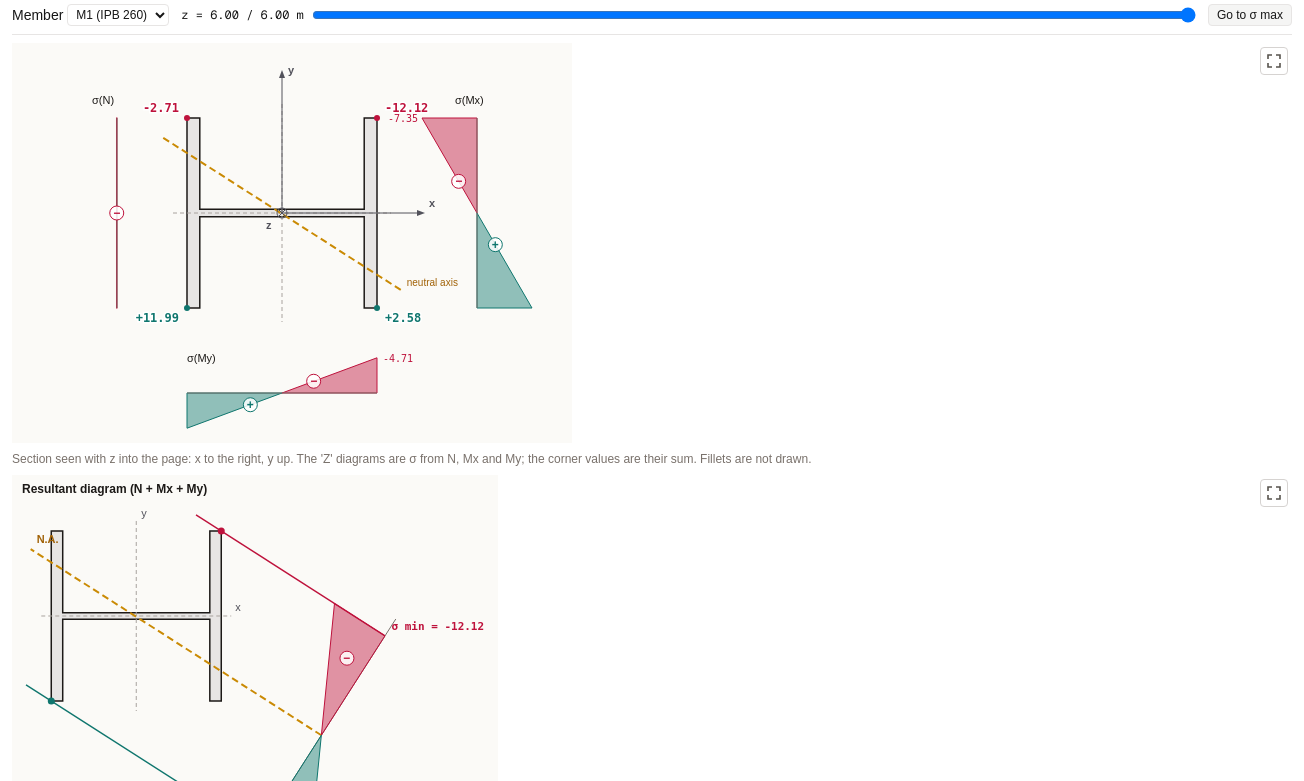
Test: SectionCut › moving the slider changes the cut and the forces; the top of the column has no My
The width and height of the screenshot is (1304, 781).
expect the text with test id "cut-x" shows "z = 6.00": met, box [181, 7, 304, 23]
Set the slider named "cut position" to "0" at (320, 15), box [312, 7, 1196, 23]
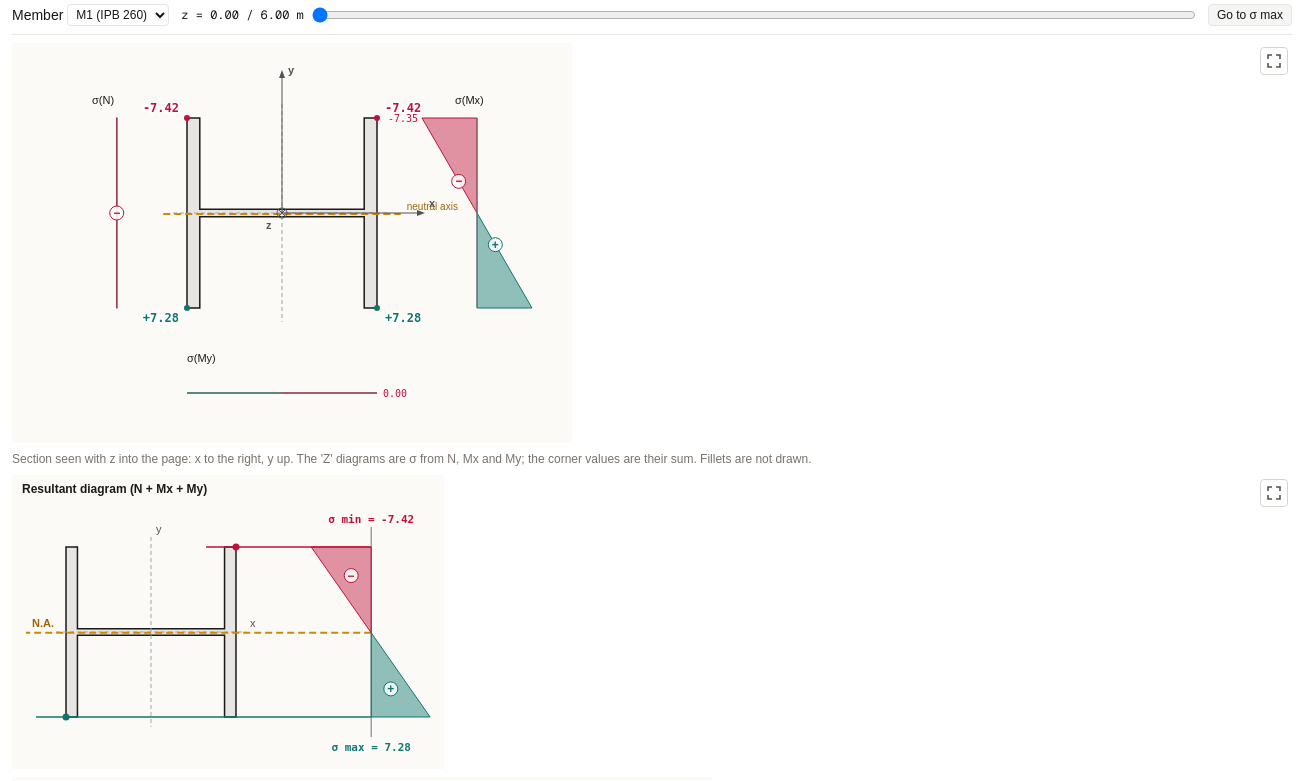
expect the text with test id "cut-x" shows "z = 0.00": met, box [181, 7, 304, 23]
